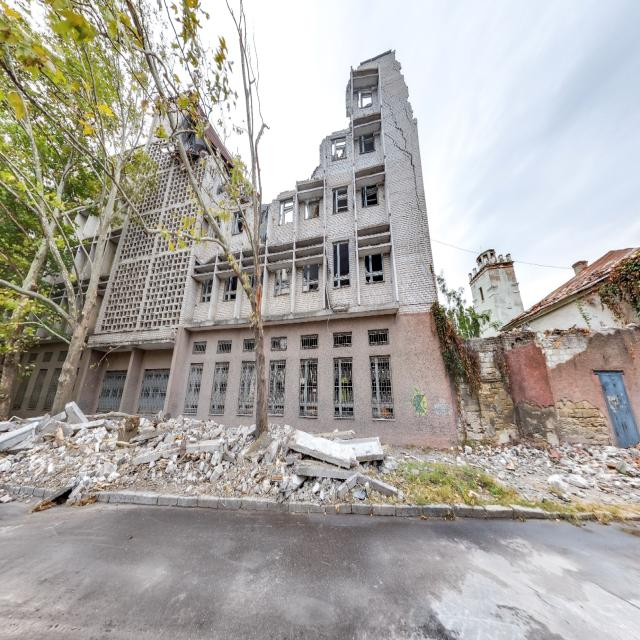broken_window: (370, 354, 394, 420), (333, 356, 354, 418), (298, 358, 318, 418), (208, 360, 229, 416), (332, 239, 350, 288), (364, 252, 384, 284), (302, 262, 319, 292), (274, 267, 291, 296), (332, 186, 349, 214), (361, 185, 378, 208)
building: (4, 47, 460, 450)
roof: (497, 245, 639, 335)
